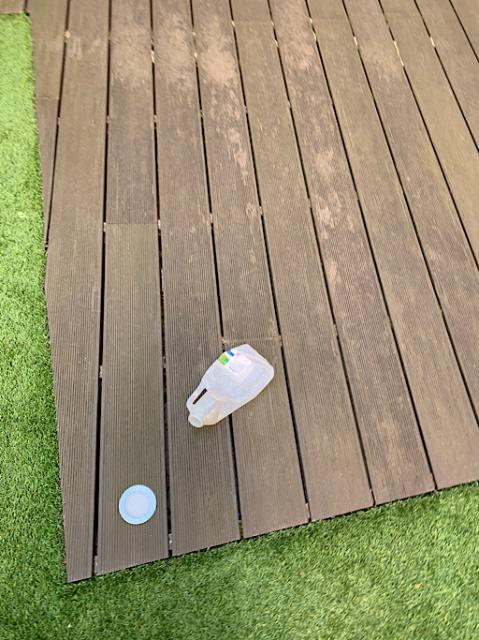plastic: (186, 343, 273, 425)
